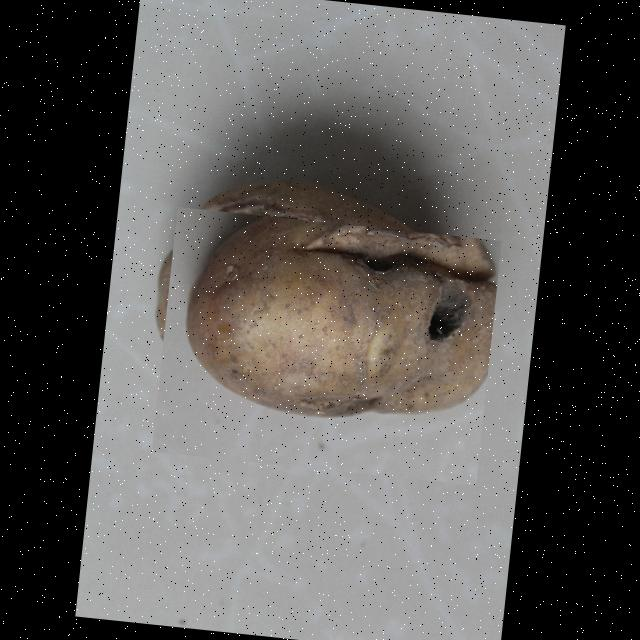Diseased-fungal potato: (152, 206, 502, 484)
